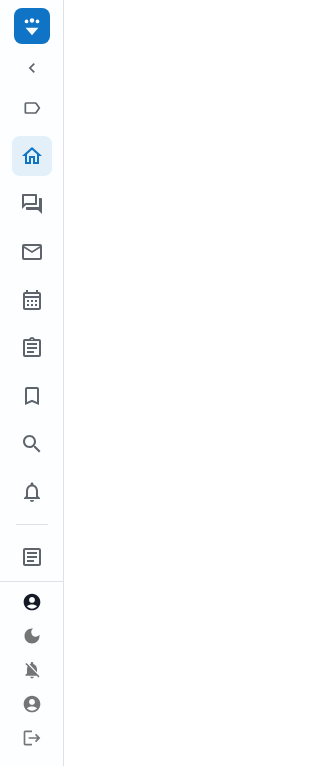
it: Rail ラベル表示モード (Issue #316) › 表示モード切替ボタン › 現在のモードに応じてボタンのラベルが変わる
Note: クリックするとラベルモードになり、ボタンラベルが変わる
Step 1. Click the button named "ラベル表示に切り替える" → (32, 108), box [14,92,50,124]
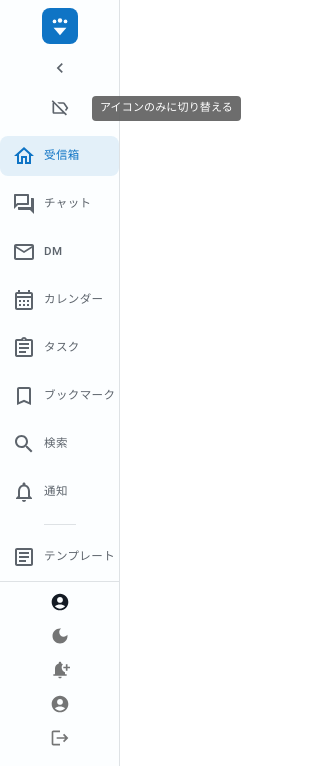
Expected: the button named "アイコンのみに切り替える" is shown, [42,92,78,124]
